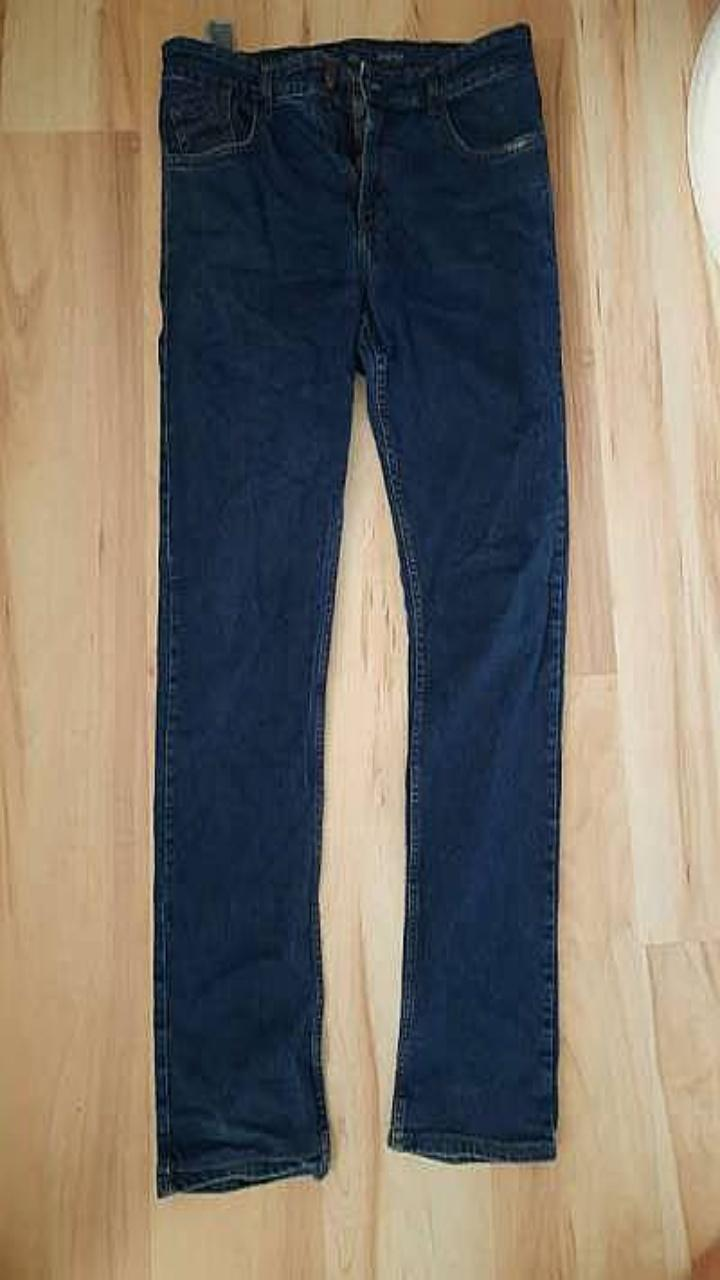Jeans: (154, 23, 567, 1195)
